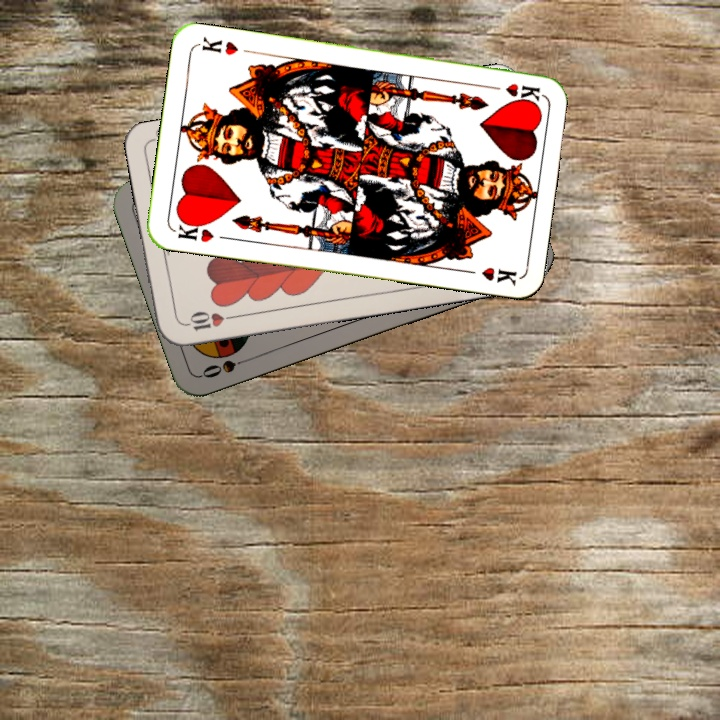H10: (179, 307, 238, 334)
HK: (171, 216, 230, 245), (483, 79, 543, 105)
SO: (197, 353, 256, 381)
